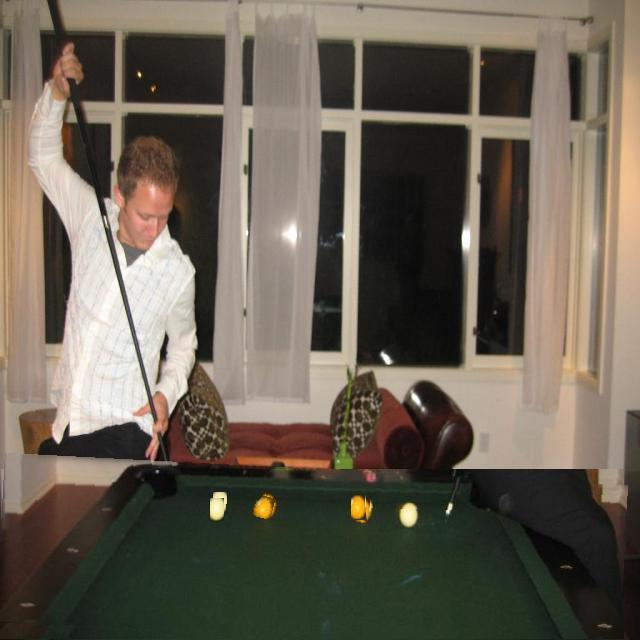Ball: (252, 495, 274, 519), (352, 496, 368, 522), (210, 498, 224, 522)
Billiard table: (0, 461, 626, 640)
